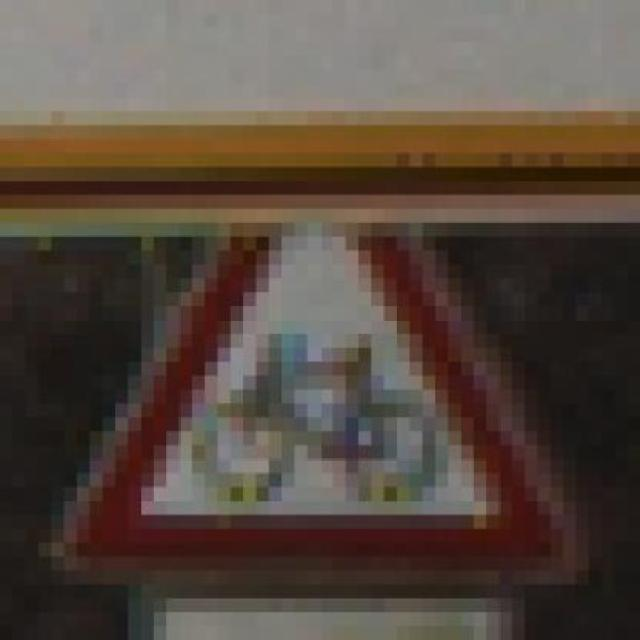CYCLE ROUTE AHEAD WARNING: (52, 227, 590, 602)
